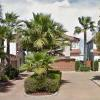Tree: (24, 18, 67, 65)
